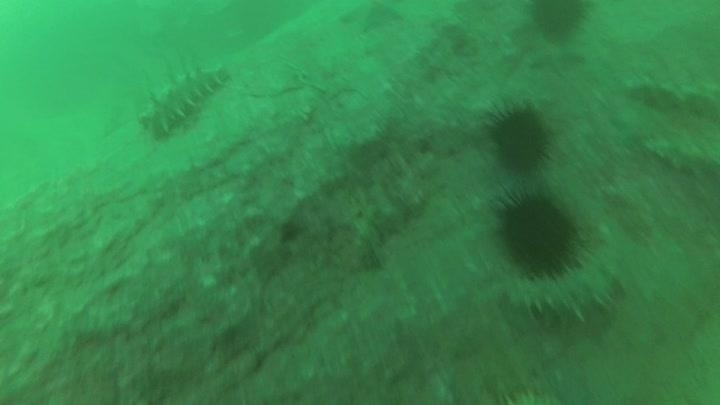echinus: (492, 187, 583, 278), (483, 99, 555, 176), (526, 1, 591, 42)
holothurian: (502, 263, 623, 328), (137, 59, 230, 139), (620, 72, 718, 116), (640, 130, 719, 178)
